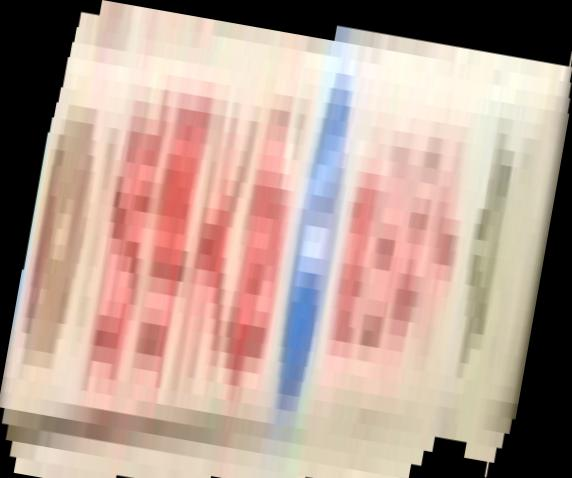flat: (1, 1, 572, 478)
